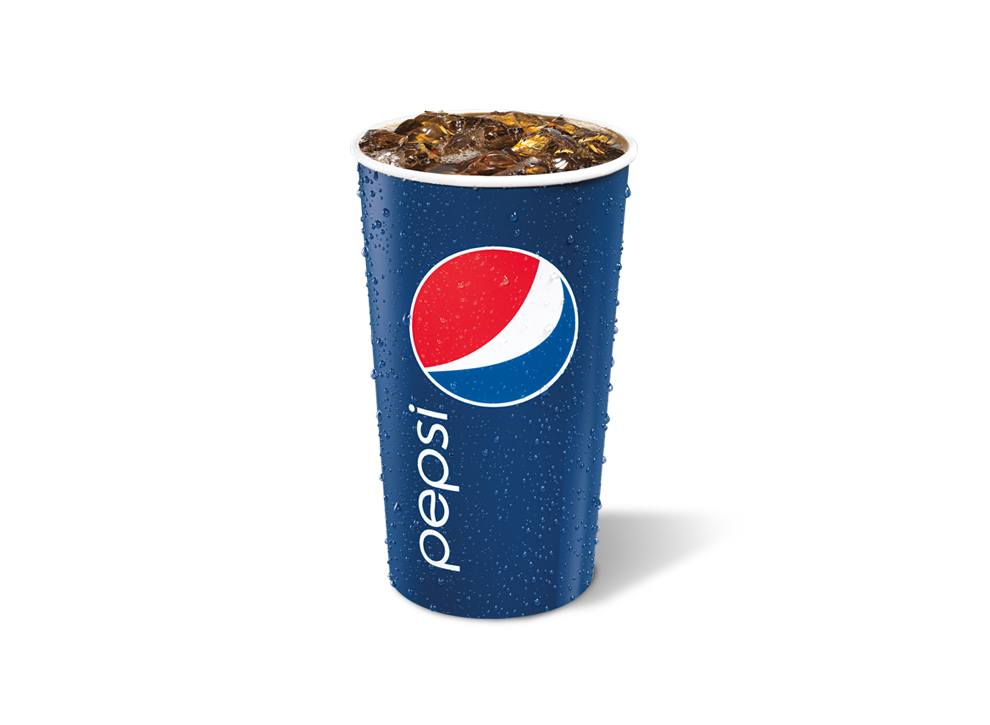pepsi: (410, 244, 578, 405)
